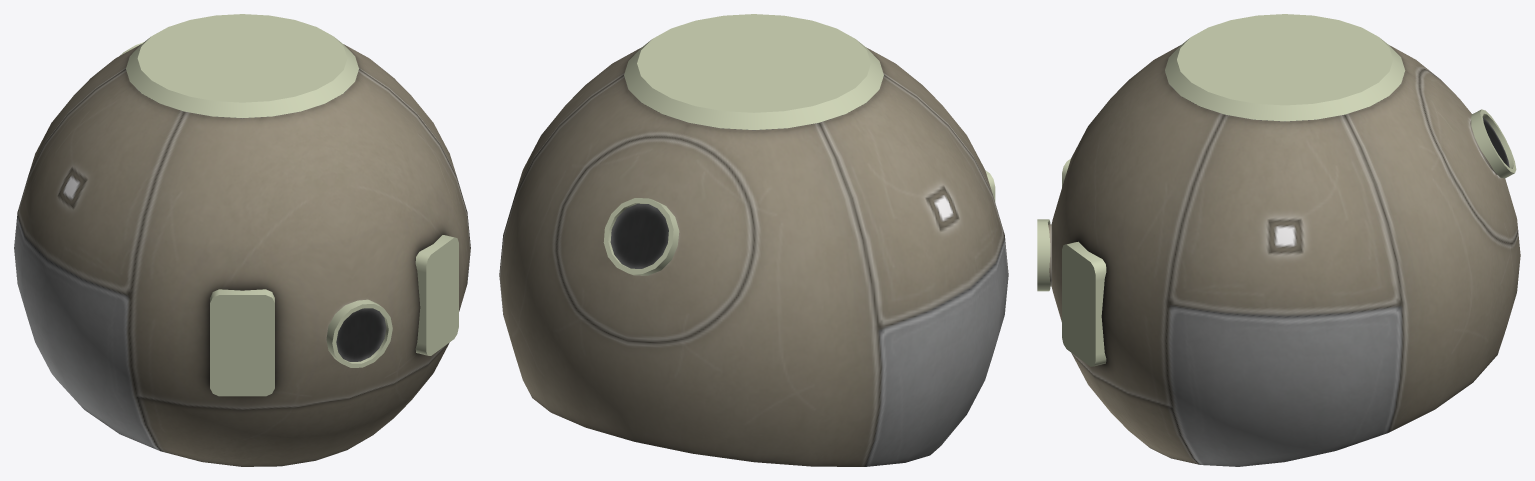
File: Andromeda_Crew_1_Interior.obj
The picture shows the model from 3 angles, left to right: view 1: azimuth 30°, elevation 25°; view 2: azimuth 150°, elevation 25°; view 3: azimuth 270°, elevation 25°; orthographic projection. The views are drawn at different scales.
Visible parts, largest first — view 1: Andromeda_Crew_1_Interior, Andromeda_Crew_1_Interior_Mask, Andromeda_Crew_1_Interior_Windows; view 2: Andromeda_Crew_1_Interior, Andromeda_Crew_1_Interior_Mask, Andromeda_Crew_1_Interior_Windows; view 3: Andromeda_Crew_1_Interior, Andromeda_Crew_1_Interior_Mask.
Part boxes in pixels (x1,y1,x2,y2): Andromeda_Crew_1_Interior: [14, 44, 470, 466]; Andromeda_Crew_1_Interior_Mask: [120, 14, 458, 396]; Andromeda_Crew_1_Interior_Windows: [336, 308, 386, 361]; Andromeda_Crew_1_Interior: [499, 47, 1008, 466]; Andromeda_Crew_1_Interior_Mask: [603, 14, 995, 275]; Andromeda_Crew_1_Interior_Windows: [610, 203, 668, 268]; Andromeda_Crew_1_Interior: [1048, 45, 1520, 466]; Andromeda_Crew_1_Interior_Mask: [1037, 14, 1516, 366].
Size of the model in its own units: 1.22 by 1.03 by 1.26.
